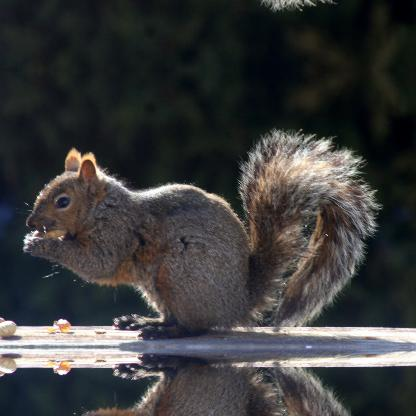Squirrel: (15, 124, 384, 342), (14, 349, 384, 415)
